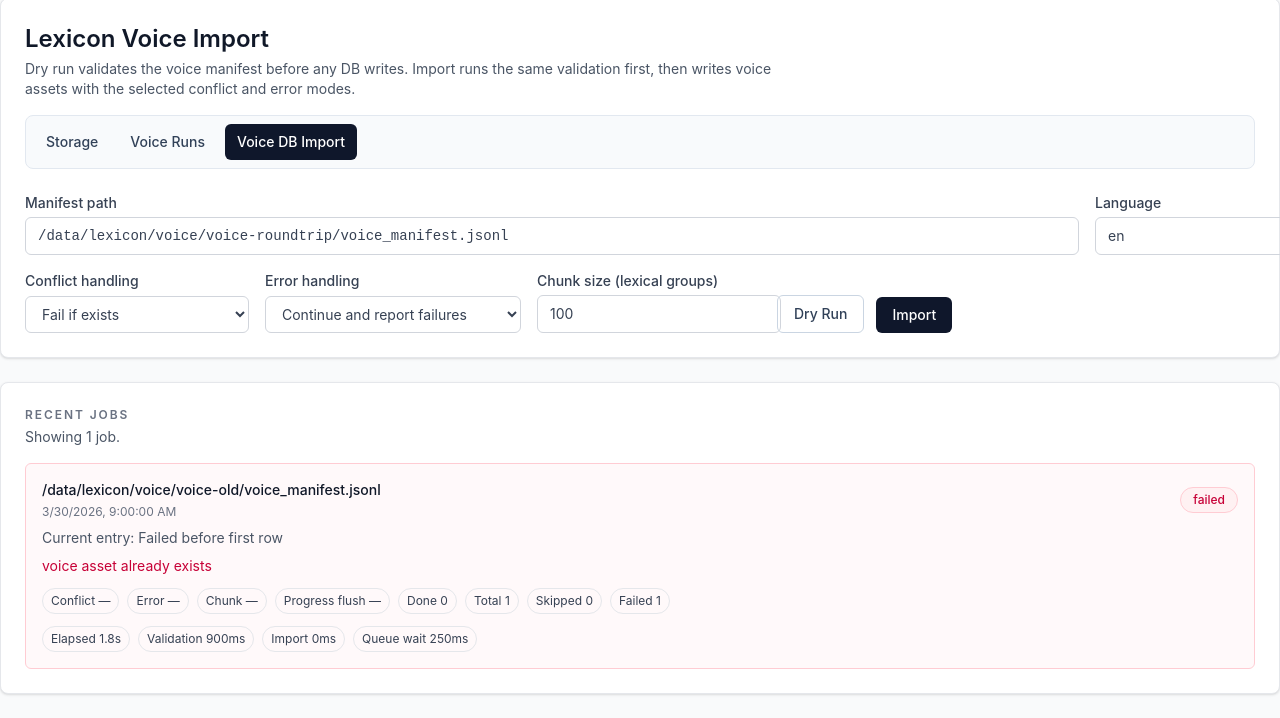
LexiconVoiceImportPage › prefills the manifest path and renders dry-run and recent job details
This screenshot has width=1280, height=718.
Expected: the field with test id "lexicon-voice-import-input-path" holds "/data/lexicon/voice/voice-roundtrip/voice_manifest.jsonl", [25,217,1079,255]
Expected: the dropdown with test id "lexicon-voice-import-conflict-mode" shows "Fail if exists", [25,296,249,333]
What coordinates should you click on to do the following:
click the button with test id "lexicon-voice-import-dry-run"
I would click on:
 (821, 314)
Its box is [777,295,864,333].
(page scrolled)
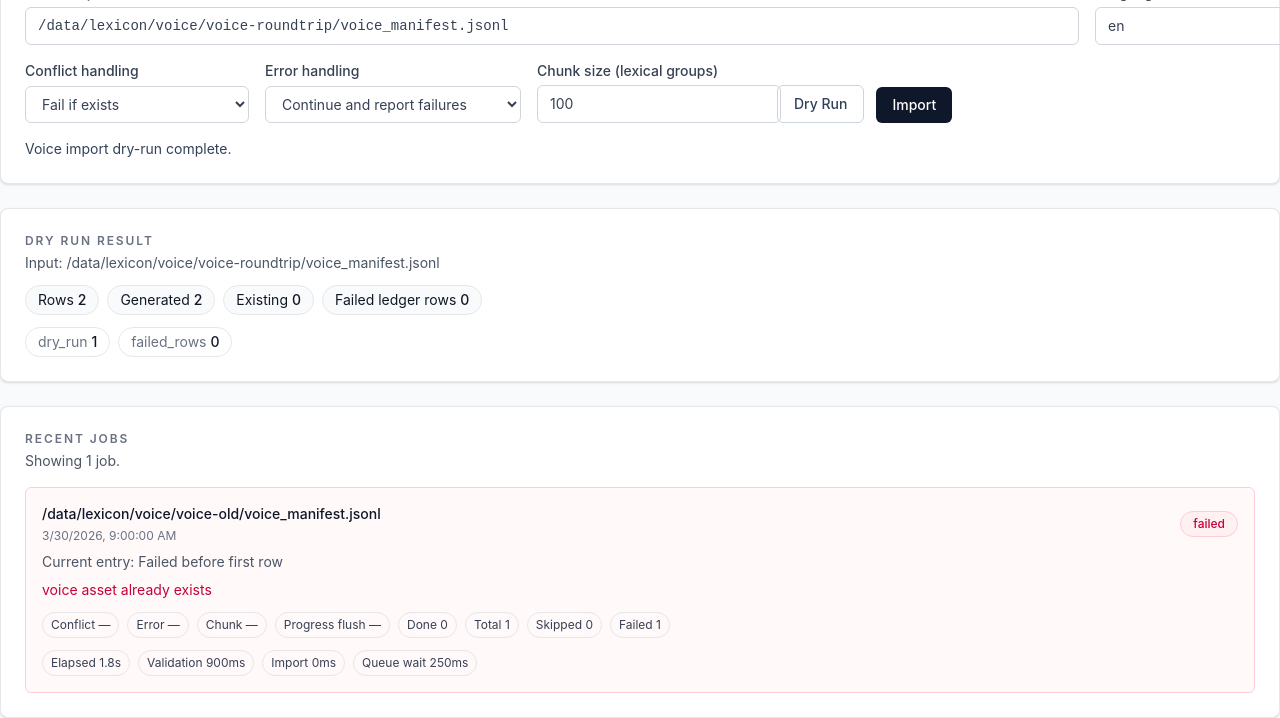
Expected: the element with test id "lexicon-voice-import-recent-jobs" shows "voice asset already exists", [42,581,212,598]
Expected: the element with test id "lexicon-voice-import-result" shows "Rows", [38,291,78,308]
Expected: the element with test id "lexicon-voice-import-result" shows "Generated", [120,291,194,308]
